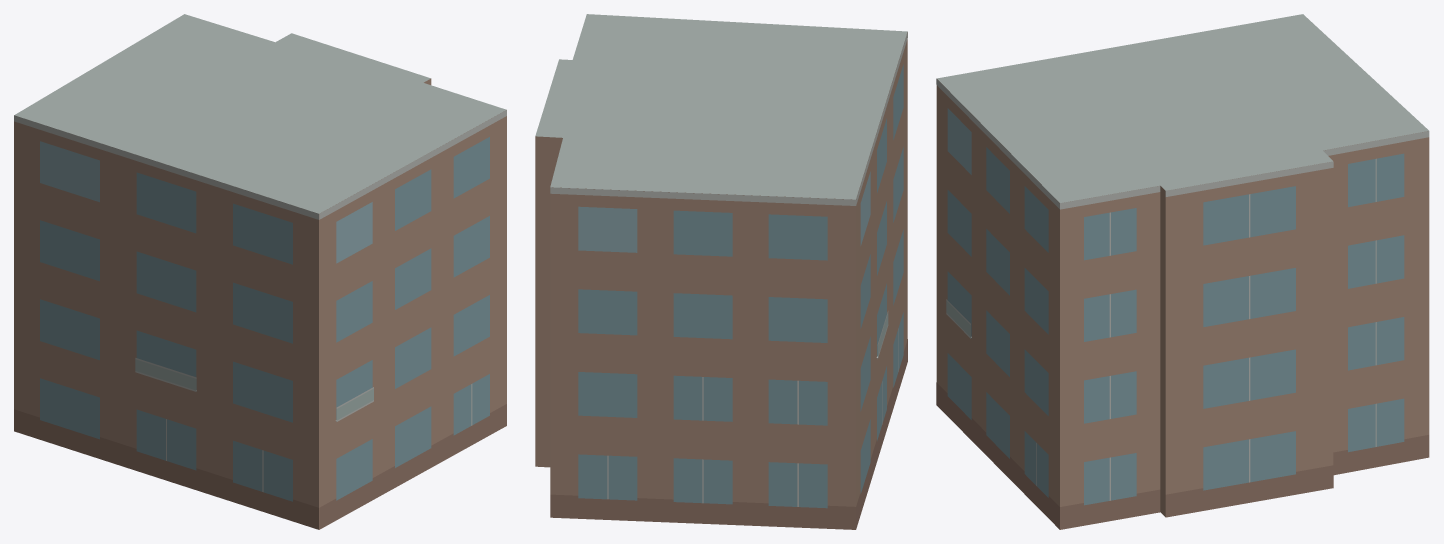
Rendered from survey-upis-32737875.glb.
The picture shows the model from 3 angles, left to right: view 1: azimuth 30°, elevation 25°; view 2: azimuth 150°, elevation 25°; view 3: azimuth 270°, elevation 25°; orthographic projection. The views are drawn at different scales.
Visible parts, largest first — view 1: survey-upis-32737875.tmp; view 2: survey-upis-32737875.tmp; view 3: survey-upis-32737875.tmp.
Boxes of the visible parts, x1,y1,x2,y2 form: survey-upis-32737875.tmp: (14,14,506,529); survey-upis-32737875.tmp: (535,14,907,529); survey-upis-32737875.tmp: (936,14,1429,529).
Bounding box in the file's own units: 15.54 × 12.5 × 17.1.
